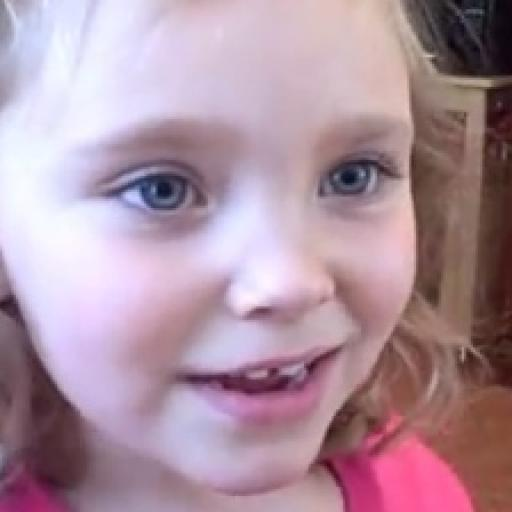Autism: (0, 0, 462, 512)
